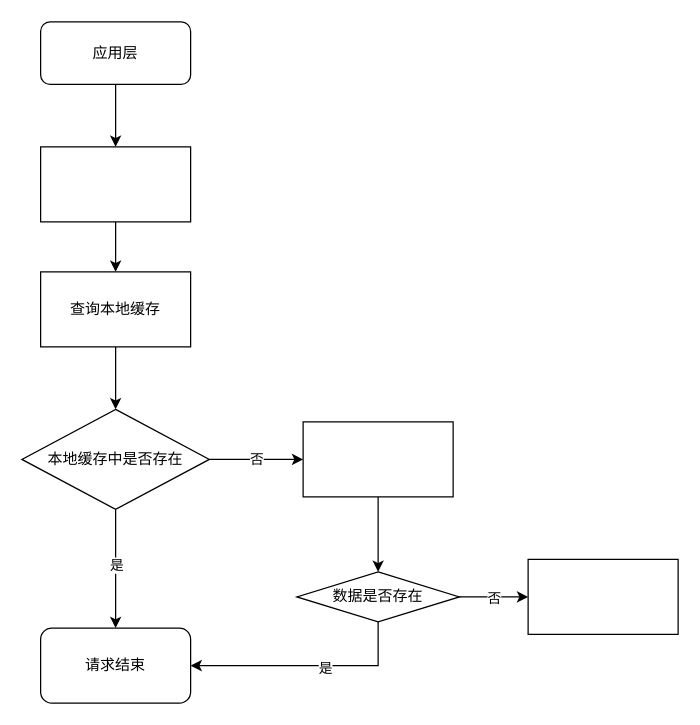
Some shapes in this 700 by 725 pixel diagram are drawn without their labels. Here are the shapes that lost their labels. From the top down, the centre of each, then its label:
the point at 115,184: 解析请求参数
the point at 377,459: 持久存储获取（Redis）
the point at 602,596: 上报监控
